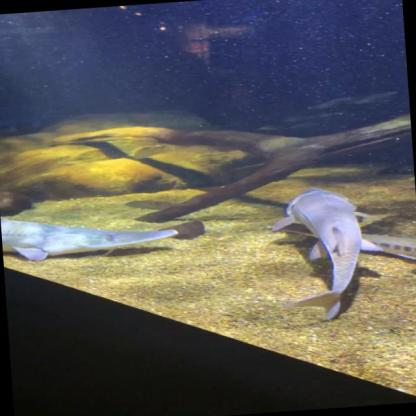fish: (0, 205, 181, 264), (266, 213, 416, 276)
shark: (266, 182, 384, 326)
